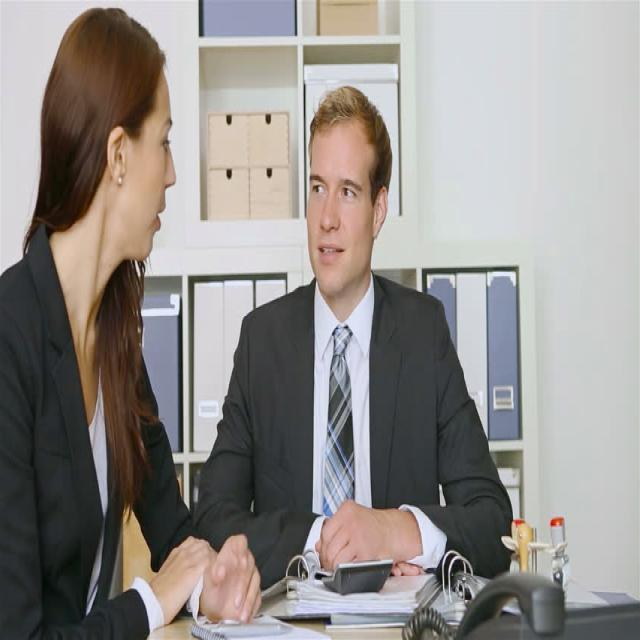adult: (0, 8, 264, 639), (197, 83, 513, 587)
